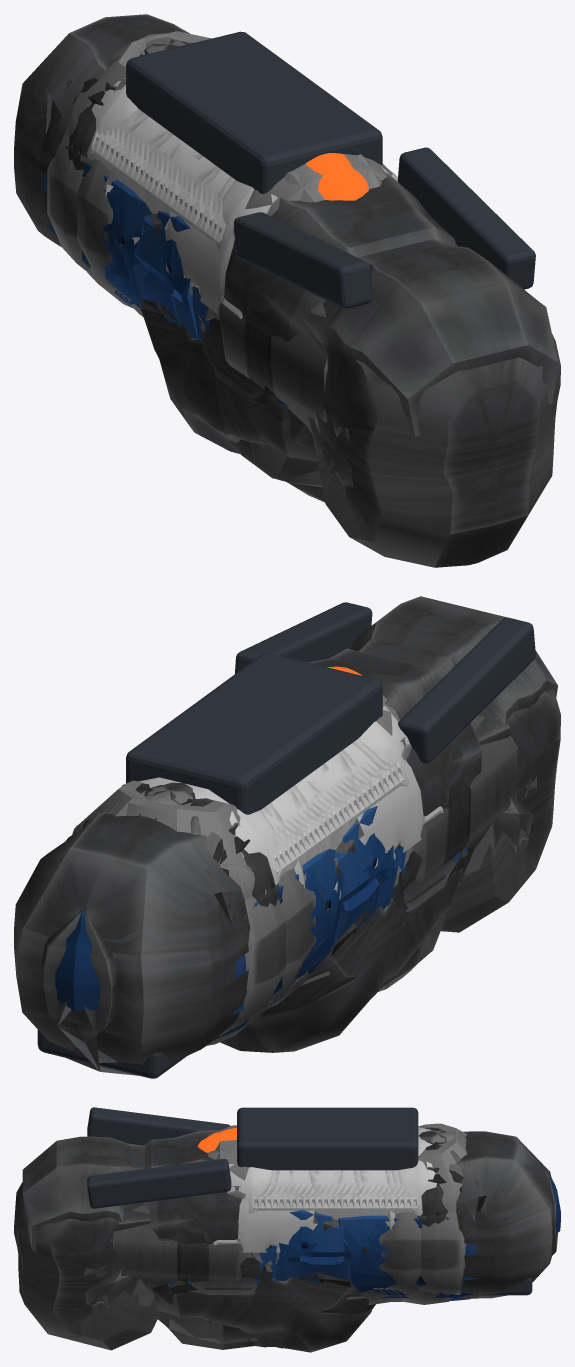
File: HellcasterPistolV9.fbx
The picture shows the model from 3 angles, top to bottom: view 1: azimuth 30°, elevation 25°; view 2: azimuth 150°, elevation 25°; view 3: azimuth 270°, elevation 25°; orthographic projection. The views are drawn at different scales.
Visible parts, largest first — view 1: ChallengerMainBody, UpperSlide, MuzzleProng.001, MuzzleProng, InfernalPowerCore; view 2: ChallengerMainBody, UpperSlide, MuzzleProng, MuzzleProng.001, MagazineBase; view 3: ChallengerMainBody, UpperSlide, MuzzleProng.001, MuzzleProng, InfernalPowerCore, MagazineBase.
Boxes of the visible parts, x1,y1,x2,y2 form: ChallengerMainBody: (14, 14, 560, 567); UpperSlide: (126, 31, 382, 194); MuzzleProng.001: (397, 147, 535, 289); MuzzleProng: (234, 212, 372, 308); InfernalPowerCore: (306, 153, 368, 200); ChallengerMainBody: (14, 596, 560, 1075); UpperSlide: (126, 653, 382, 814); MuzzleProng: (398, 617, 535, 763); MuzzleProng.001: (235, 602, 372, 673); MagazineBase: (37, 1029, 185, 1078); ChallengerMainBody: (14, 1123, 560, 1352); UpperSlide: (237, 1107, 418, 1170); MuzzleProng.001: (87, 1159, 231, 1208); MuzzleProng: (87, 1107, 230, 1145); InfernalPowerCore: (197, 1128, 236, 1152); MagazineBase: (470, 1278, 532, 1295).
Size of the model in its own units: 0.123 by 0.188 by 0.4221.
Materials: 3 (1 with a texture image).
